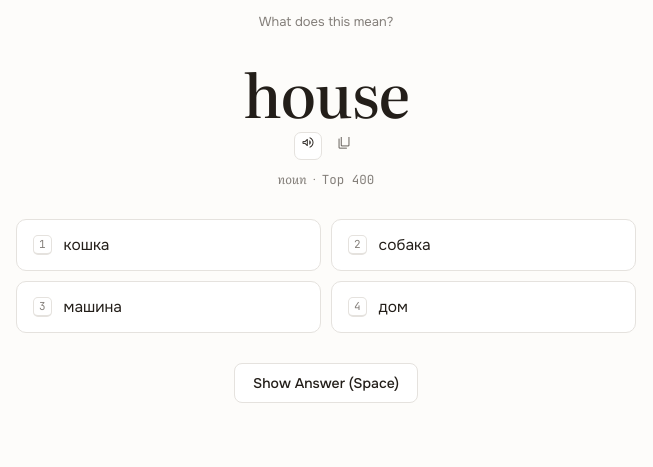
Test: FlashcardMode › shows the next interval for each rating from preview_review_intervals
The width and height of the screenshot is (653, 467).
Step 1. Click the button with aria-label "show translation" → (326, 383), box [234,363,418,403]
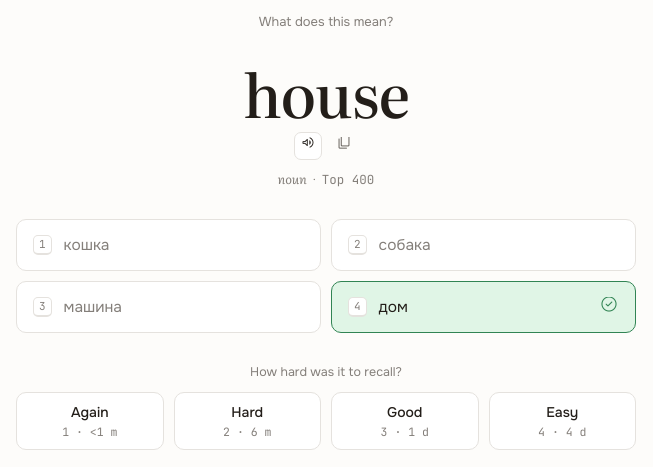
Expected: the button with class "grade-btn-sub" reads "1 · <1 m", [62,424,117,439]
Expected: the button with class "grade-btn-sub" reads "2 · 6 m", [223,424,271,439]
Expected: the button with class "grade-btn-sub" reads "3 · 1 d", [381,424,429,439]
